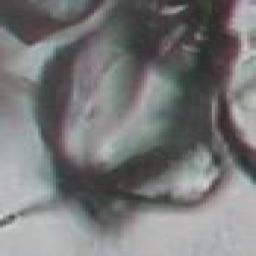crystals: (37, 0, 237, 215)
